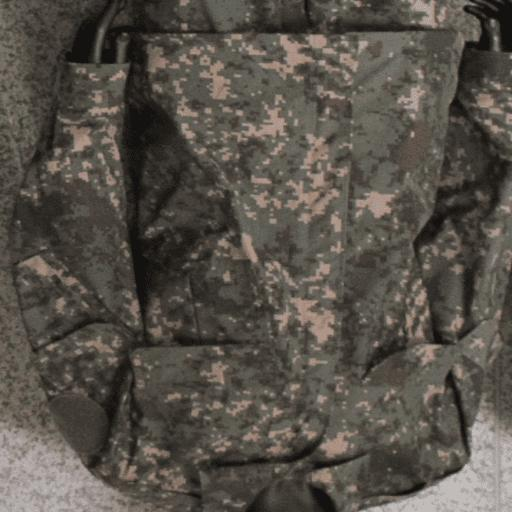korea army: (5, 0, 510, 510)
